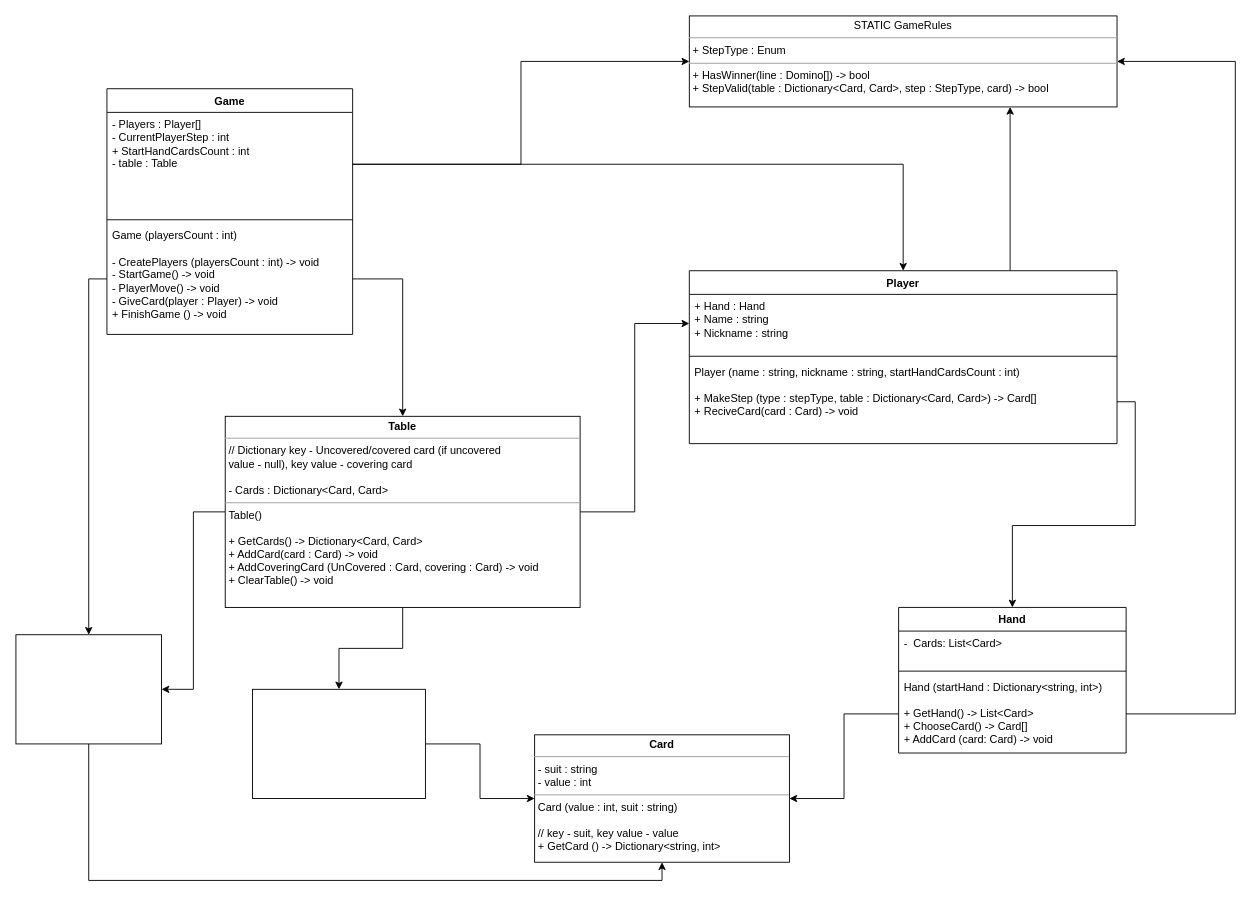
Image size: 1259x904. Some labels were removed from this diagram. Each missing label, with the box of its shape:
Deck - Cards : Card[] Deck() + GiveCard() -> Card: (15, 634, 162, 744)
PlayedCards - Cards : Card[] PlayedCards() + Add (card : Card) -> void: (252, 688, 425, 799)
